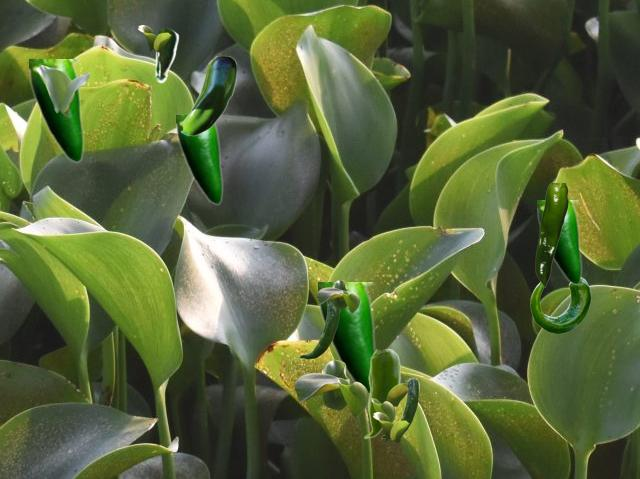green_chili: (318, 282, 377, 394), (29, 59, 83, 162), (180, 56, 235, 135), (176, 115, 222, 204), (537, 200, 581, 284), (530, 277, 590, 332), (535, 183, 567, 286), (363, 349, 399, 438), (299, 301, 339, 358), (381, 378, 418, 438), (153, 27, 178, 82)
